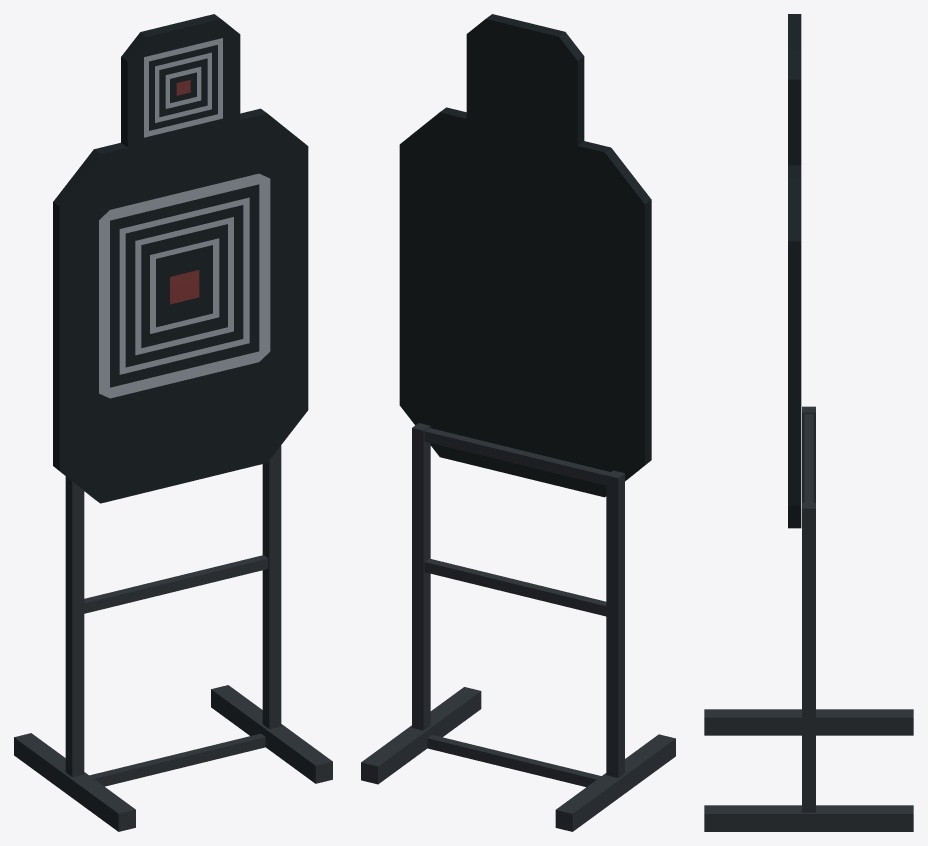
Rendered from ShootingTarget_01.fbx.
3 views of the same model, side by side, from view 1: azimuth 30°, elevation 25°; view 2: azimuth 150°, elevation 25°; view 3: azimuth 270°, elevation 25° (orthographic).
Parts seen in each view (by area): view 1: ShootingTarget_01; view 2: ShootingTarget_01; view 3: ShootingTarget_01.
Boxes of the visible parts, x1=… form: ShootingTarget_01: x1=14, y1=14, x2=332, y2=831; ShootingTarget_01: x1=361, y1=14, x2=675, y2=831; ShootingTarget_01: x1=704, y1=14, x2=913, y2=831.
Bounding box in the file's own units: 61.83 × 178 × 45.09.
